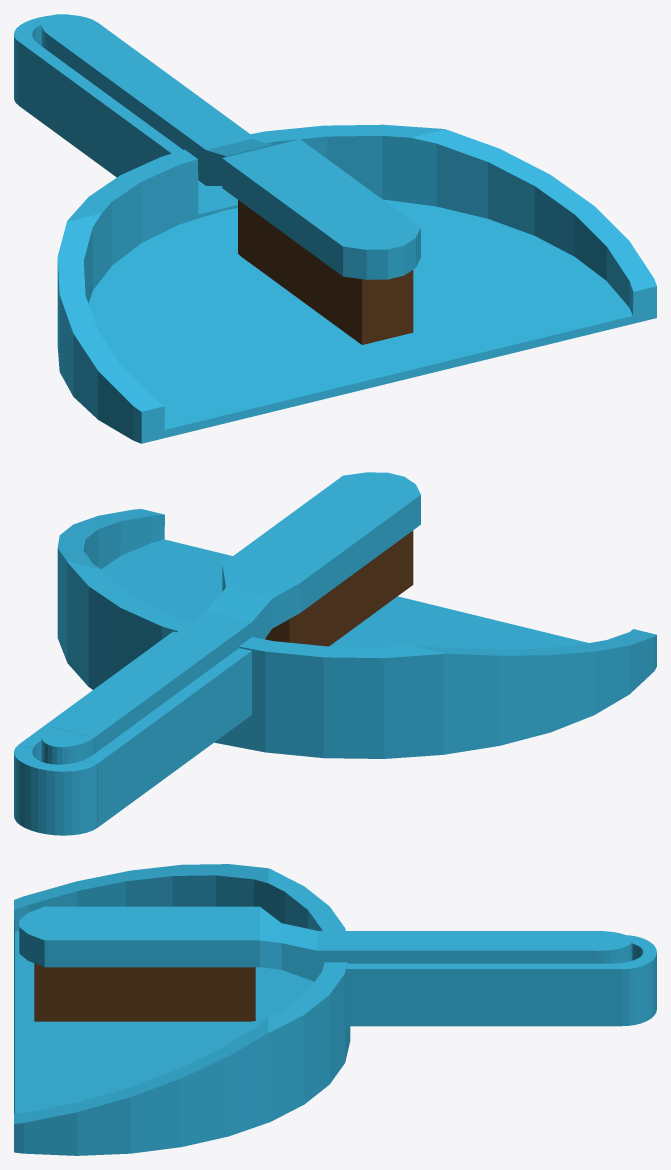
The model's file is handveger_en_blik.fbx.
The picture shows the model from 3 angles, top to bottom: view 1: azimuth 30°, elevation 25°; view 2: azimuth 150°, elevation 25°; view 3: azimuth 270°, elevation 25°; orthographic projection. The views are drawn at different scales.
Visible parts, largest first — view 1: Tin, BrushHandle, BrushBrush; view 2: Tin, BrushHandle, BrushBrush; view 3: Tin, BrushHandle, BrushBrush.
Boxes of the visible parts, bbox=[...] form: Tin: bbox=[14, 15, 656, 443]; BrushHandle: bbox=[41, 14, 420, 279]; BrushBrush: bbox=[238, 200, 413, 344]; Tin: bbox=[14, 509, 656, 835]; BrushHandle: bbox=[41, 472, 420, 764]; BrushBrush: bbox=[265, 530, 413, 646]; Tin: bbox=[14, 864, 656, 1155]; BrushHandle: bbox=[19, 906, 632, 981]; BrushBrush: bbox=[34, 963, 255, 1021].
Bounding box in the file's own units: 200 × 47.19 × 235.
